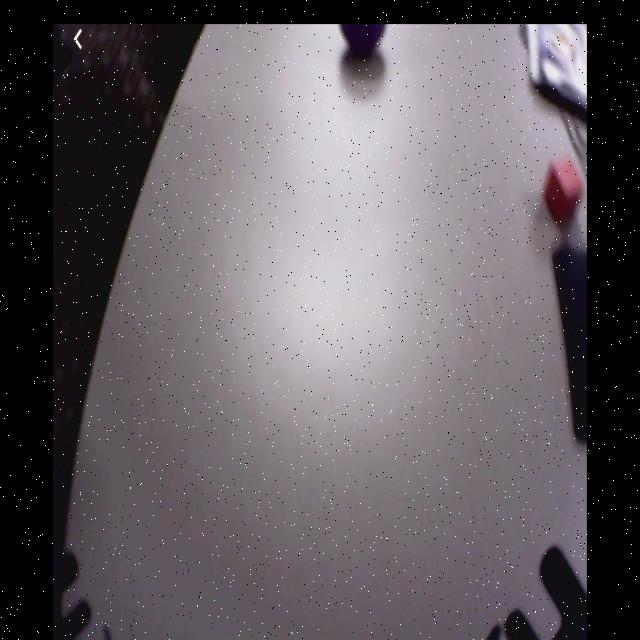ball: (341, 22, 387, 53)
